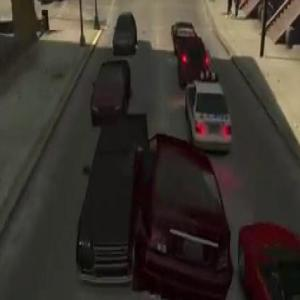critical: (67, 104, 234, 300)
